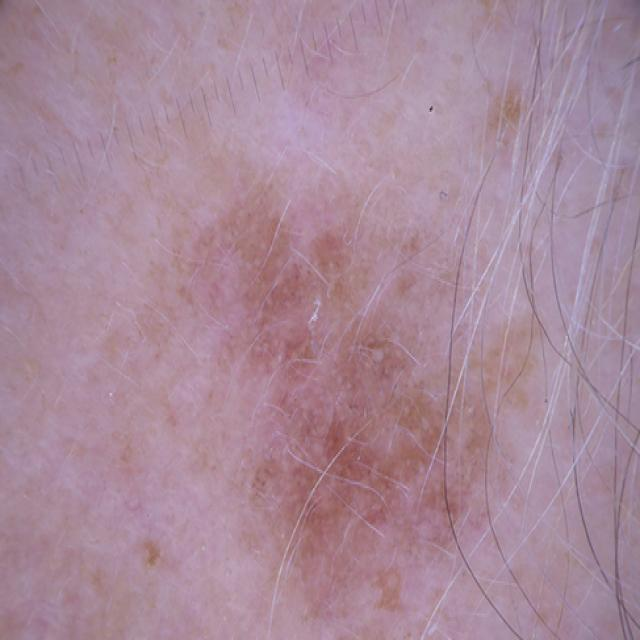Keratosis: (158, 176, 482, 640)
